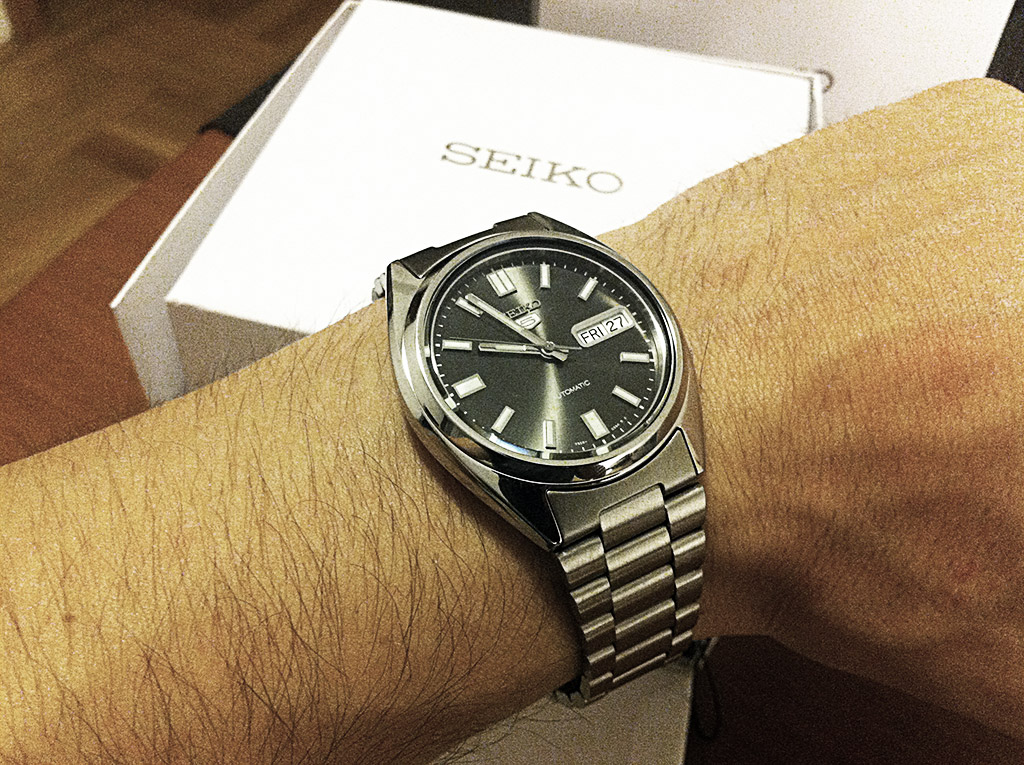clock: (396, 231, 690, 491)
